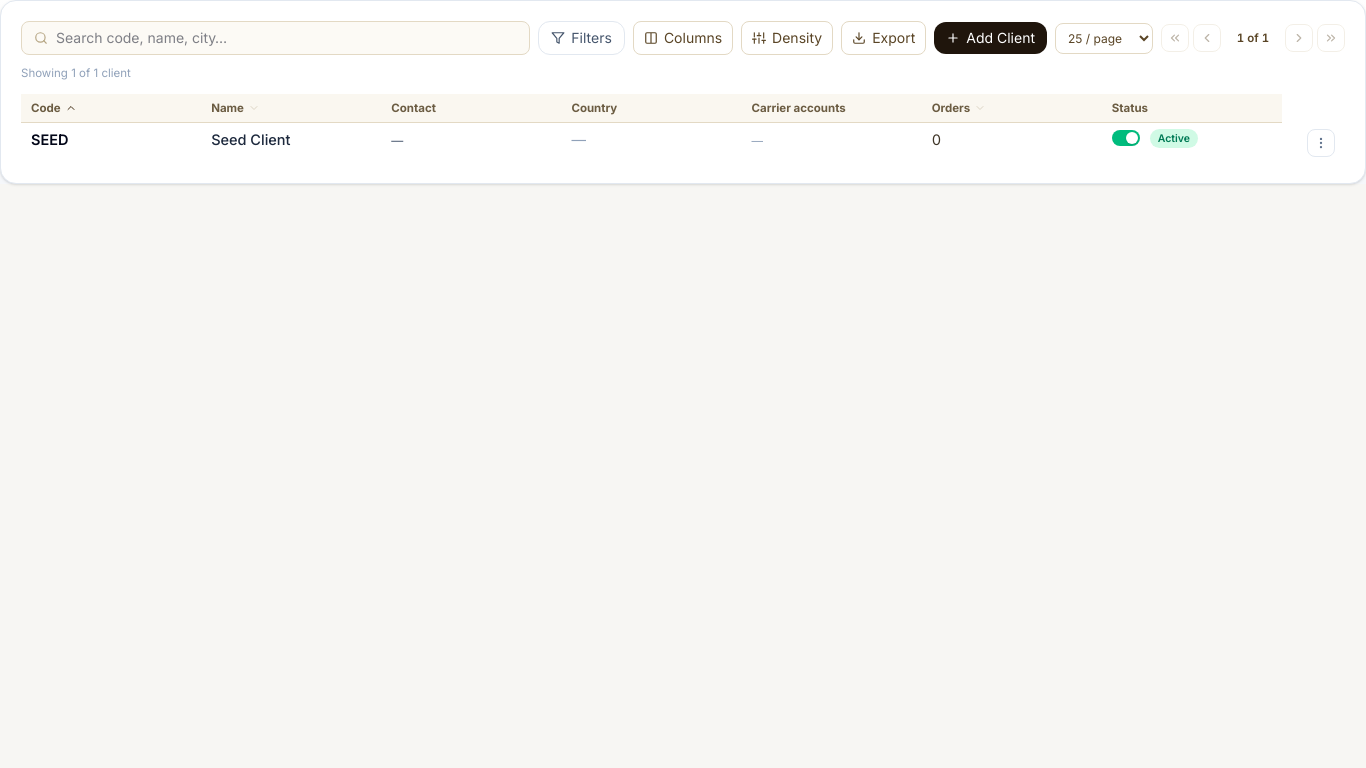
Test: ClientsPage · Filters · positive › Clear button resets every filter (dropdowns empty, columns empty) and refetches with clean params
This screenshot has width=1366, height=768.
Expected: the field with placeholder "Search code, name, city…" is shown, x1=56 y1=28 x2=517 y2=48
Click the button "Filters": (582, 38) x1=538 y1=21 x2=625 y2=55
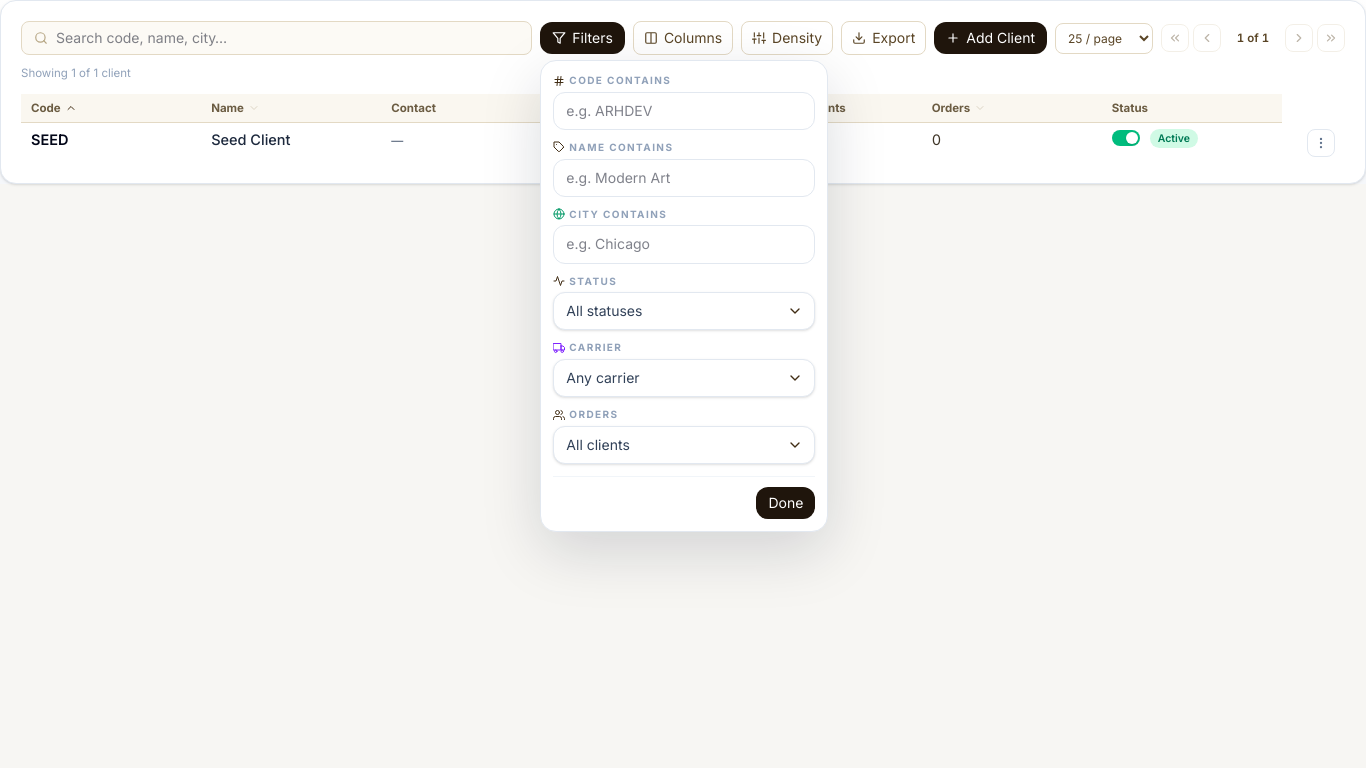
Select "Inactive" in the dropdown named "Filter by status": (684, 311) x1=553 y1=292 x2=815 y2=330
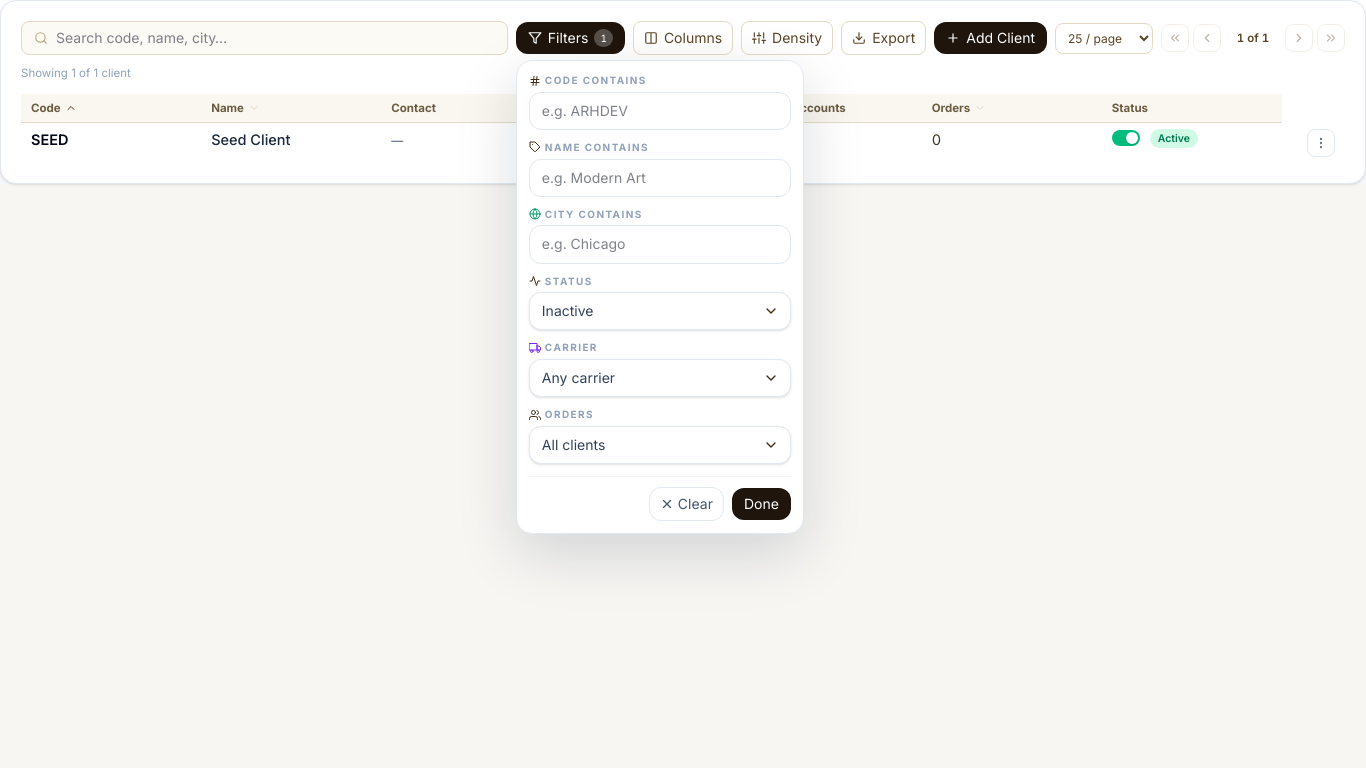
In the field with placeholder "e.g. ARHDEV": (660, 111) x1=529 y1=92 x2=791 y2=130, type "ARH"
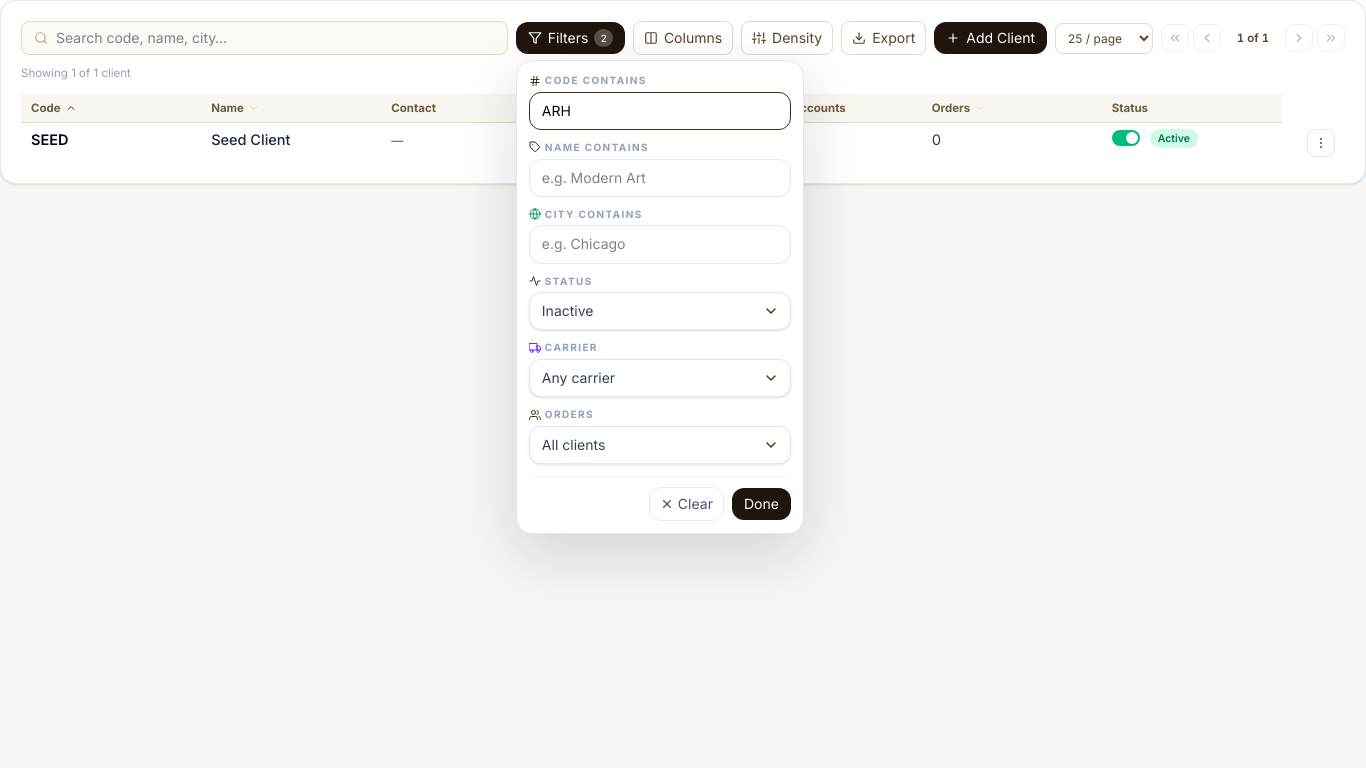
Click the button "Clear": (686, 504) x1=649 y1=487 x2=724 y2=521
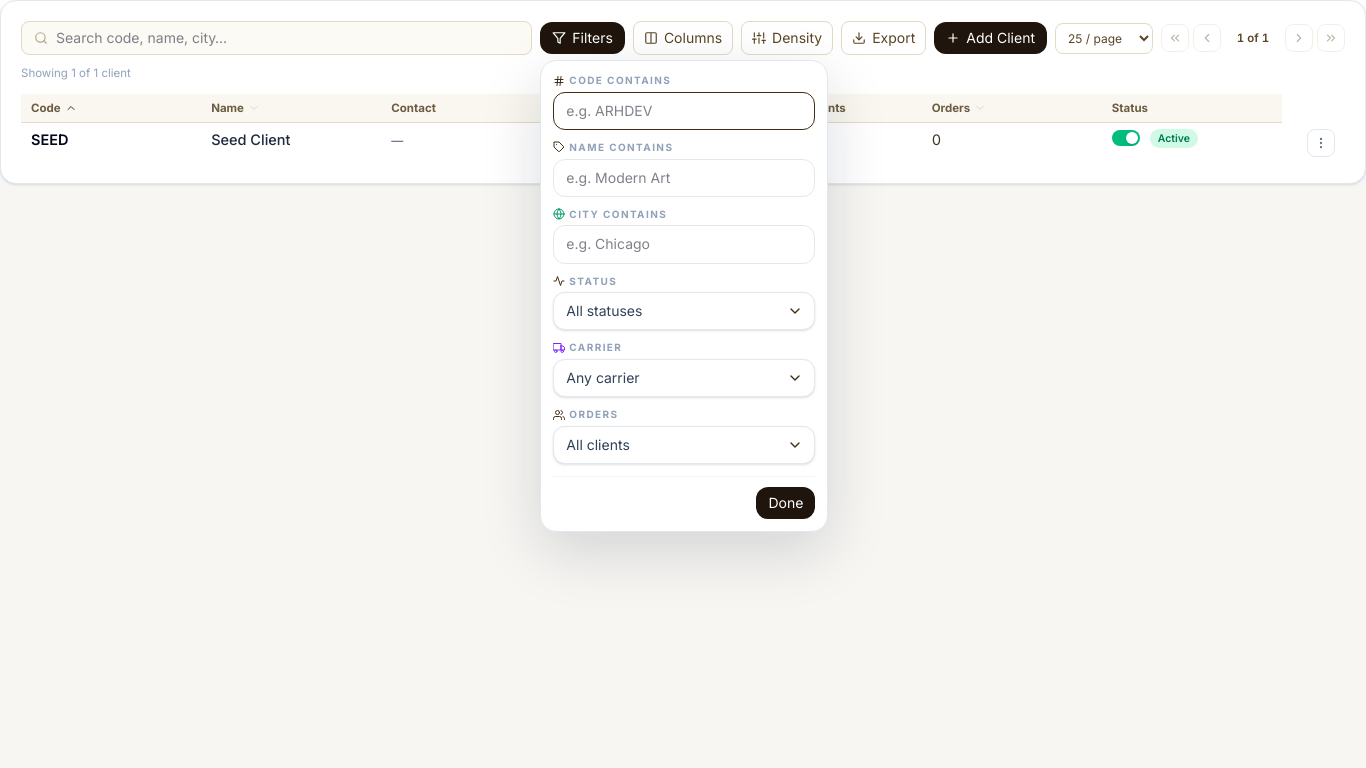
Expected: the field with placeholder "e.g. ARHDEV" is empty, x1=553 y1=92 x2=815 y2=130
